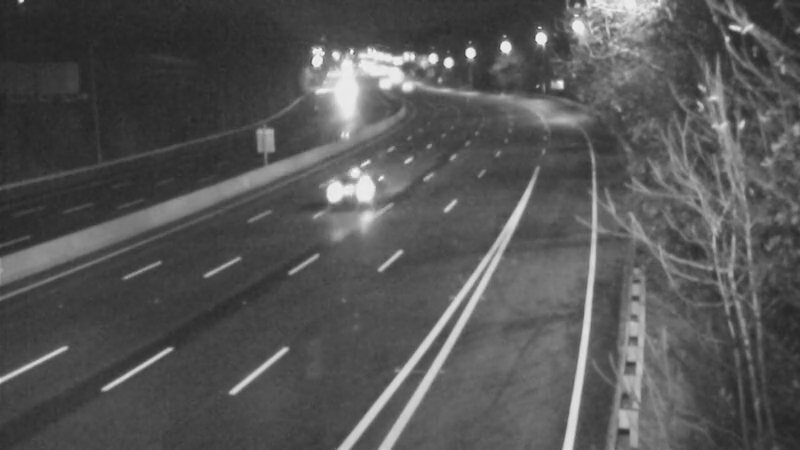vehicle: (308, 152, 388, 232)
